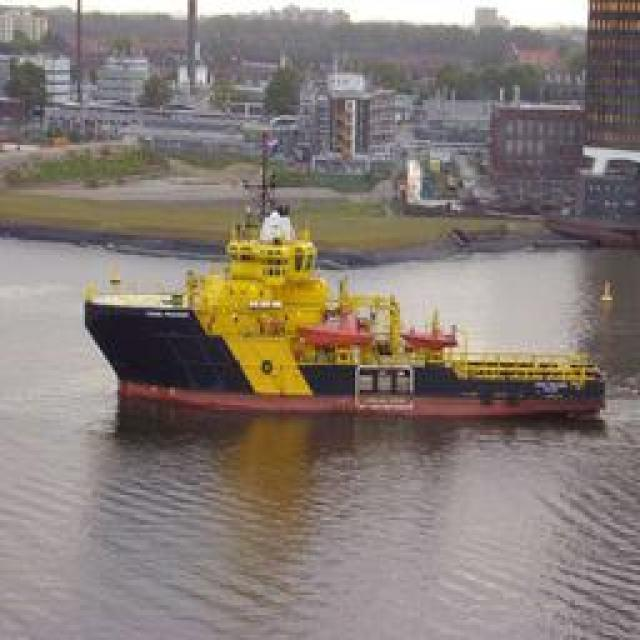ship2: (83, 129, 605, 418)
